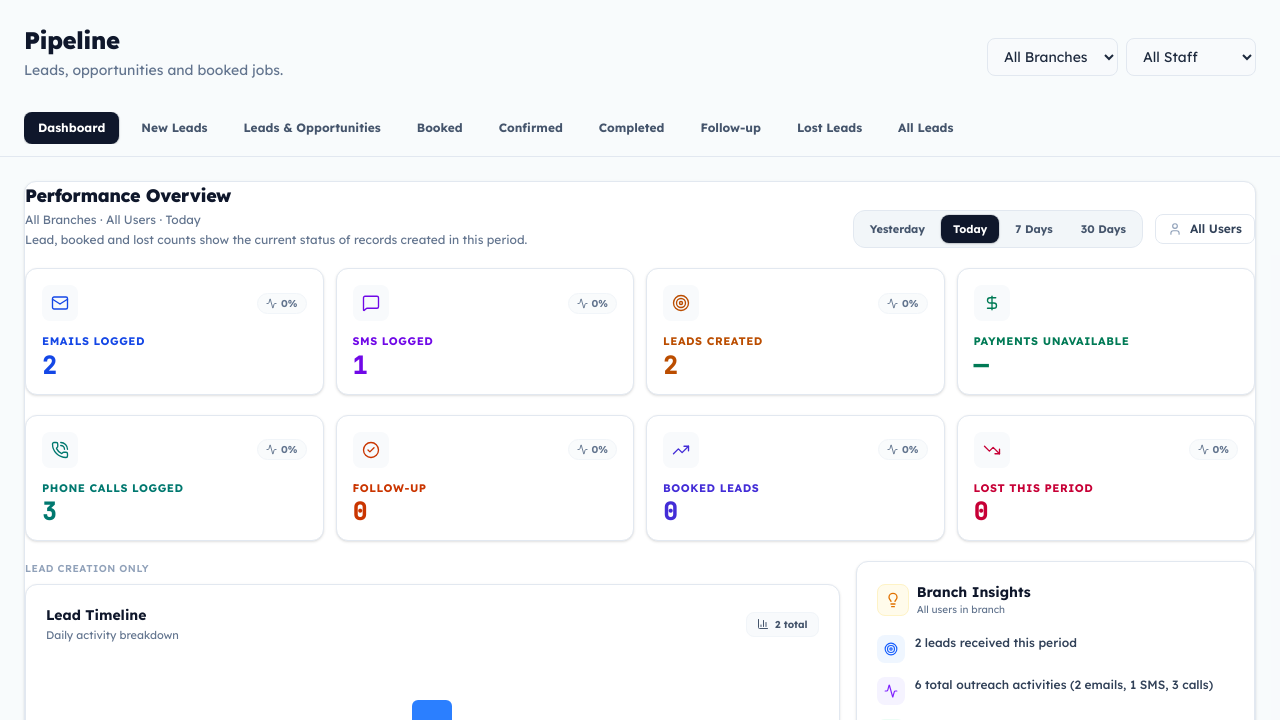
Test: Sales DashboardPane › hides completed tasks from the follow-up modal so the count matches the dashboard
Expected: the button "Follow-up" is shown, x1=686 y1=112 x2=775 y2=144
Click the text "Follow-up". click: x=485, y=478
box: x1=336 y1=414 x2=634 y2=541
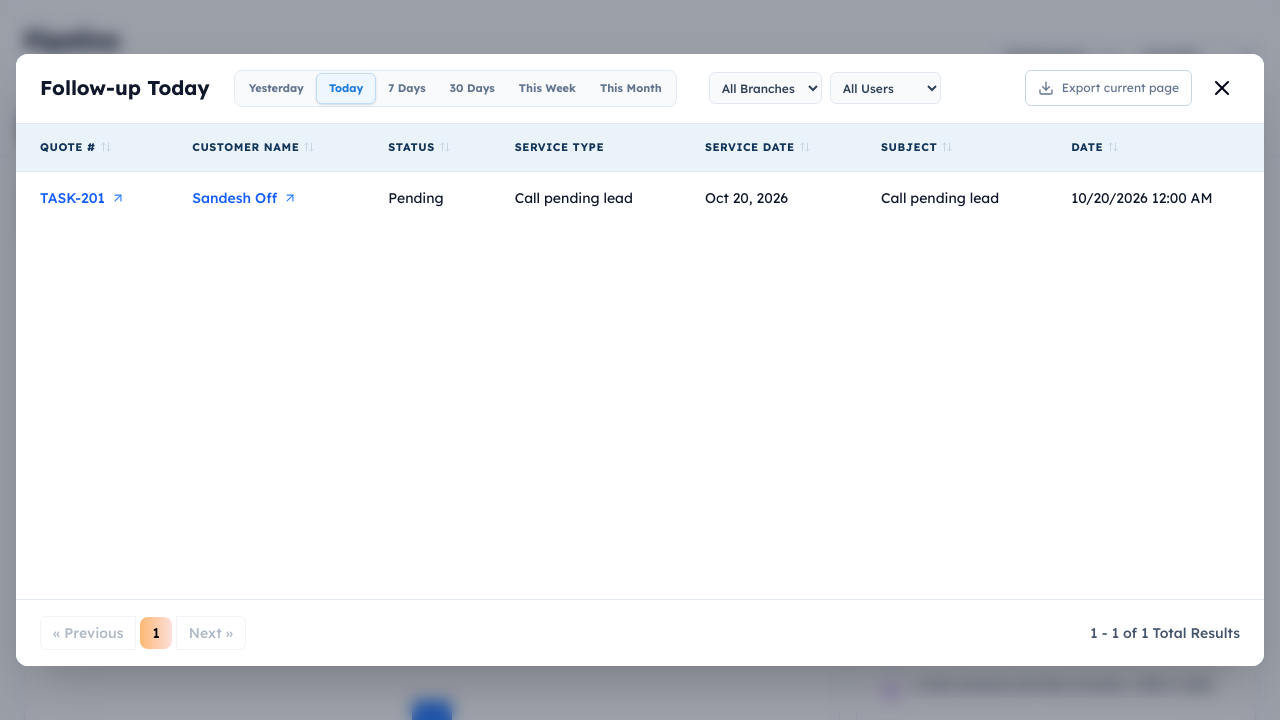
Expected: the heading "Follow-up Today" is shown, x1=40 y1=74 x2=210 y2=102
Expected: the text "1 - 1 of 1 Total Results" is shown once, x1=1090 y1=623 x2=1240 y2=643
Expected: the 1st text "Call pending lead" is shown, x1=491 y1=172 x2=681 y2=224
